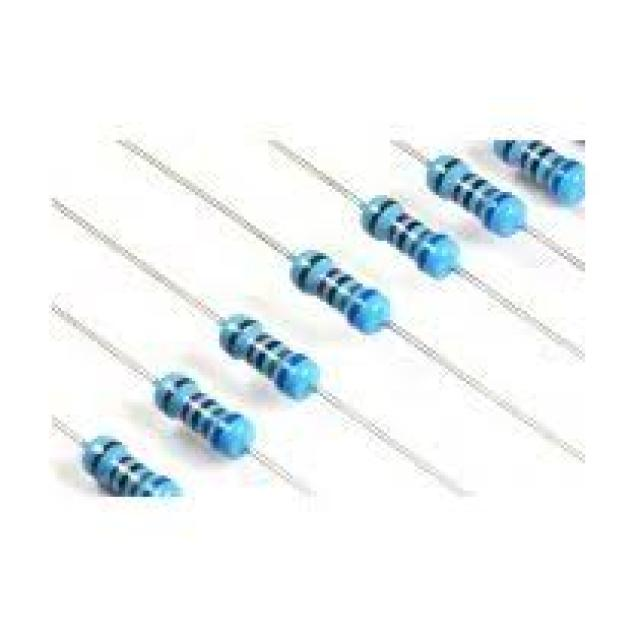Resistor: (422, 152, 530, 237), (153, 372, 258, 457), (287, 250, 393, 333), (218, 316, 322, 397), (361, 197, 462, 276), (78, 433, 184, 500), (492, 138, 588, 205)
